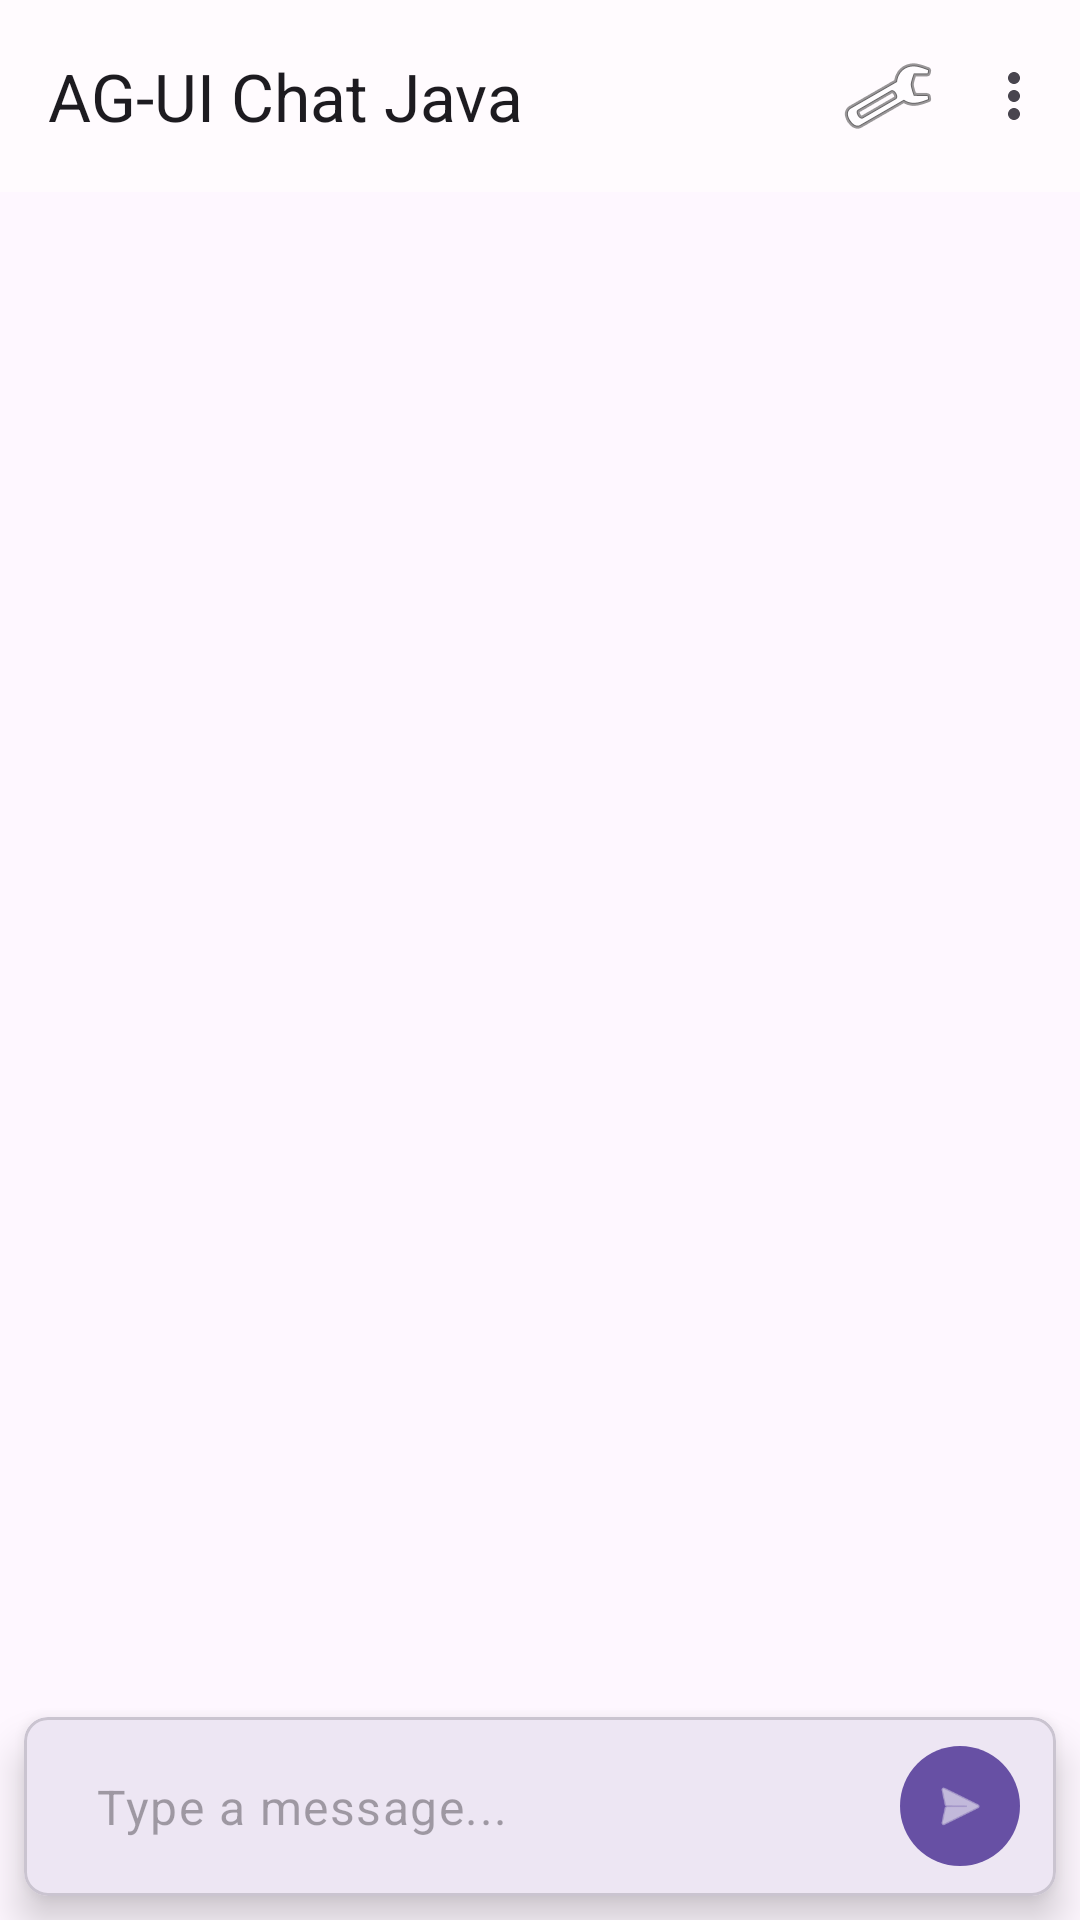

Icon bounding boxes for this 1080 x 1920 phone screenshot, format (x1, y1, x2, y2):
Send: (900, 1746, 1020, 1866)
